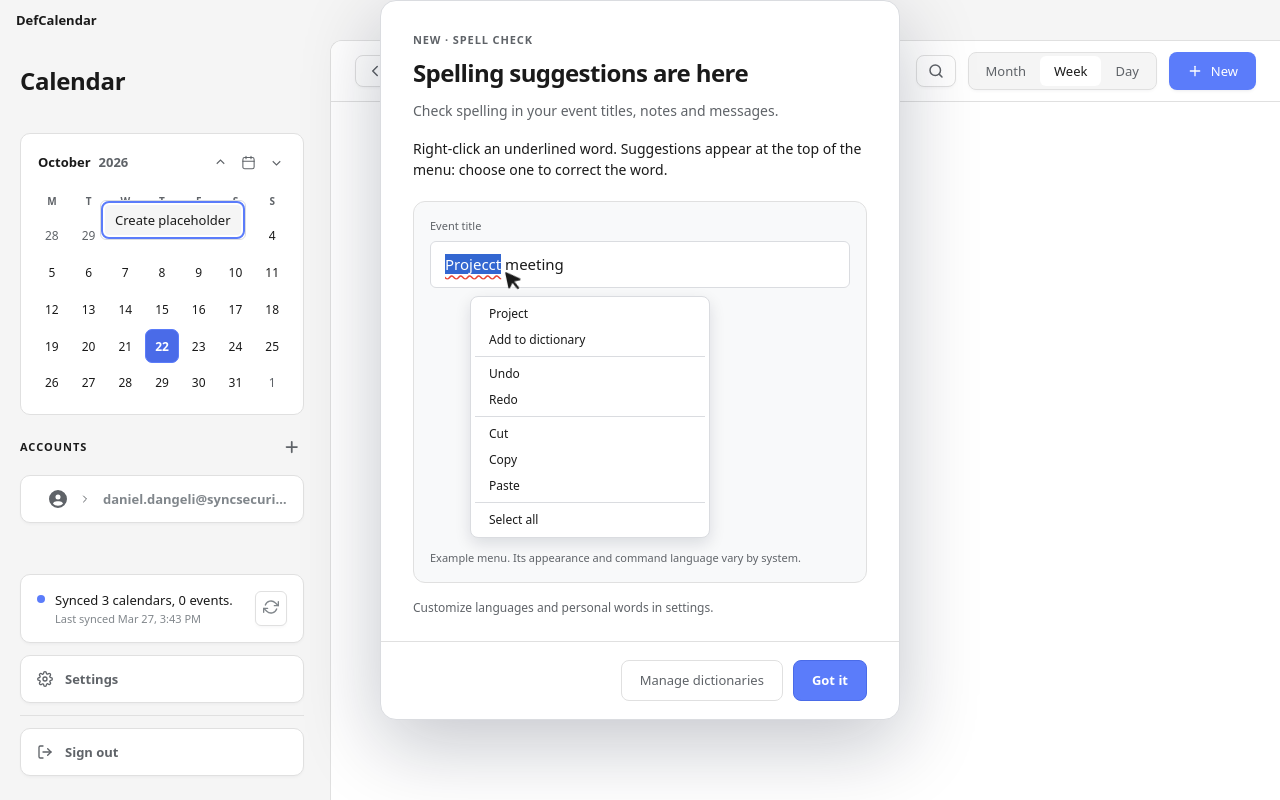
Test case: app startup › creates a personal busy placeholder without reminders from a slot context
Step 1. Click the menu item "Create placeholder" → (173, 220), box [105, 205, 240, 235]
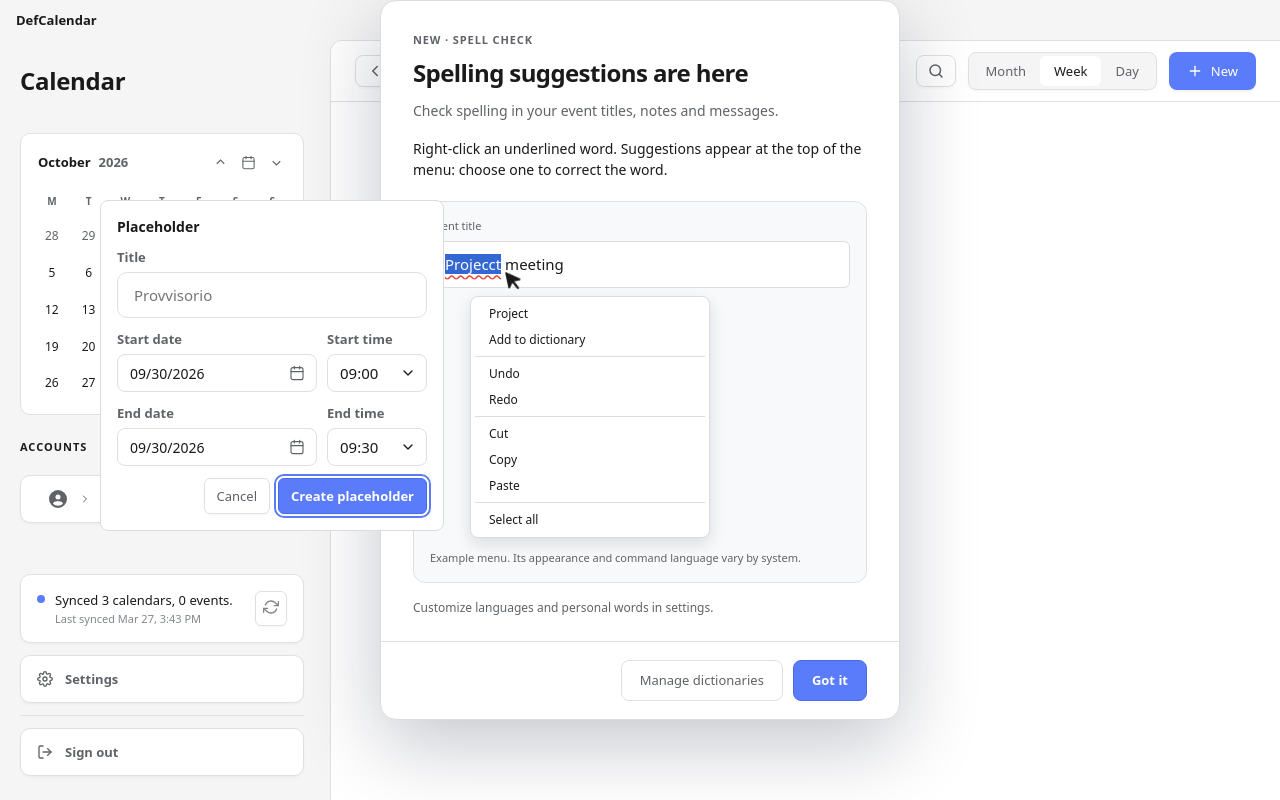
Check: the field labelled "Start time" holds "09:00", box [340, 363, 390, 383]
Check: the field labelled "End time" holds "09:30", box [340, 437, 390, 457]
Step 2. Click the button "Create placeholder" → (352, 496), box [278, 478, 427, 514]
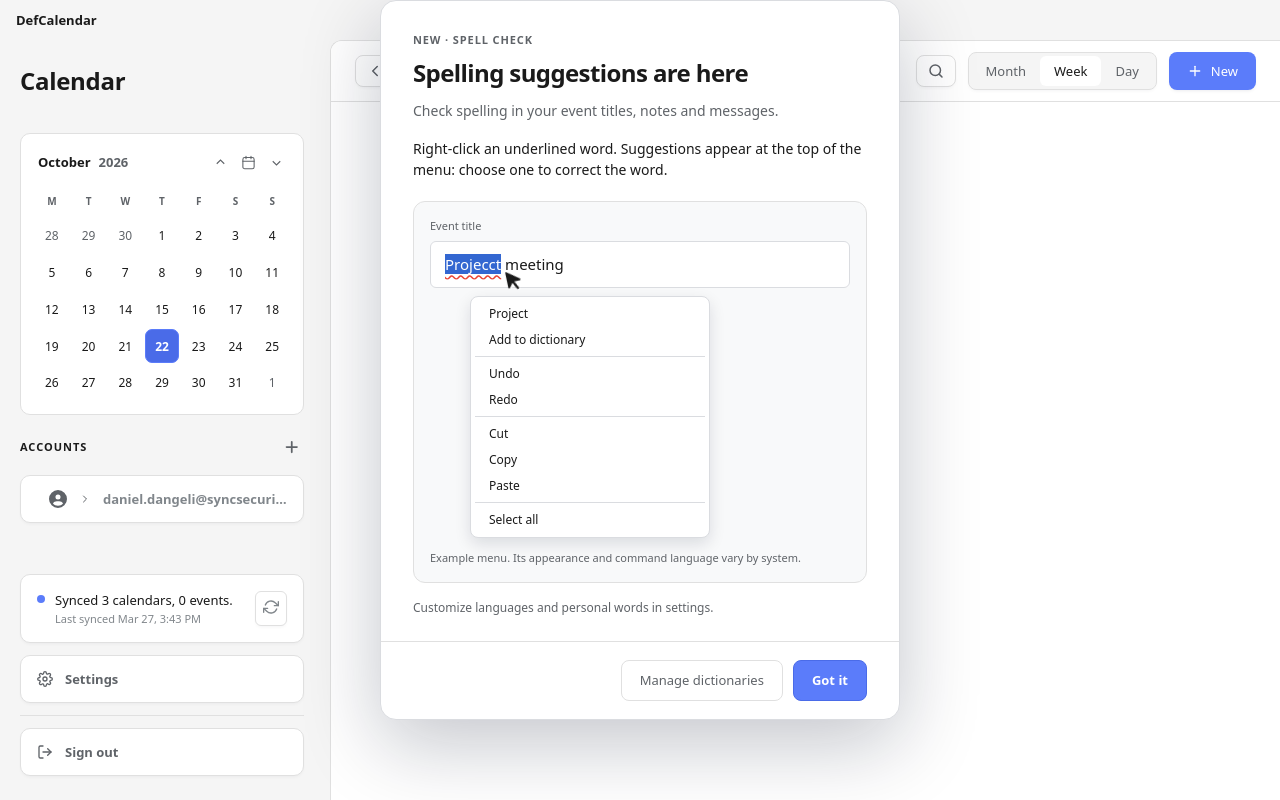
Check: the heading "Placeholder" is gone
